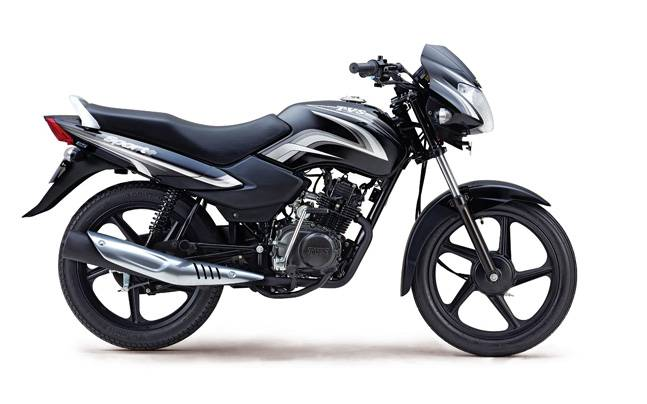Bike: (33, 81, 586, 364)
